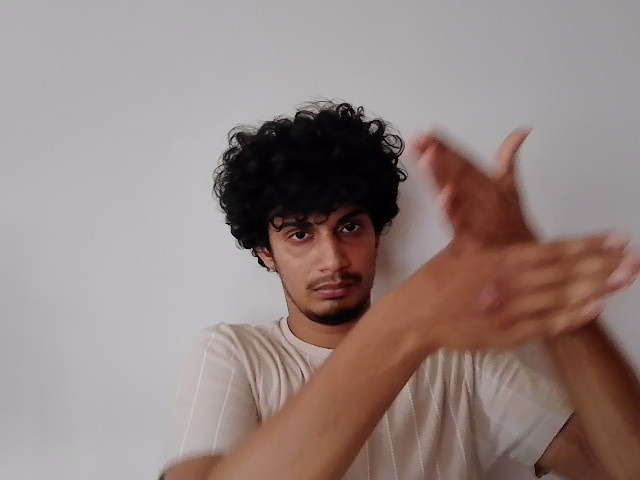busy: (415, 122, 640, 351)
